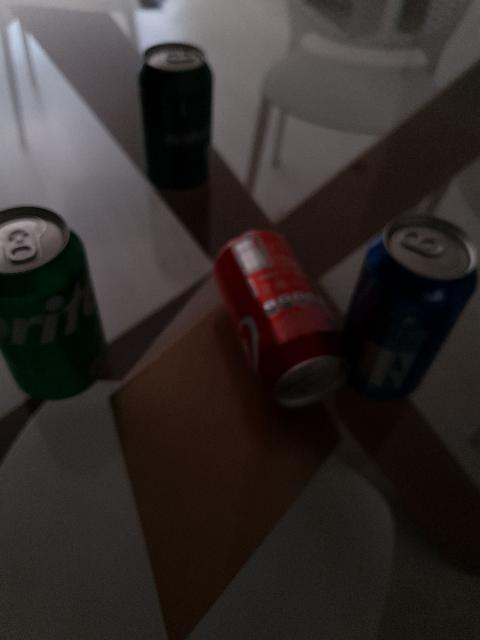coke: (212, 225, 354, 422)
pepsi: (353, 217, 473, 399)
schweppes: (138, 39, 207, 175)
sprite: (0, 202, 108, 402)
